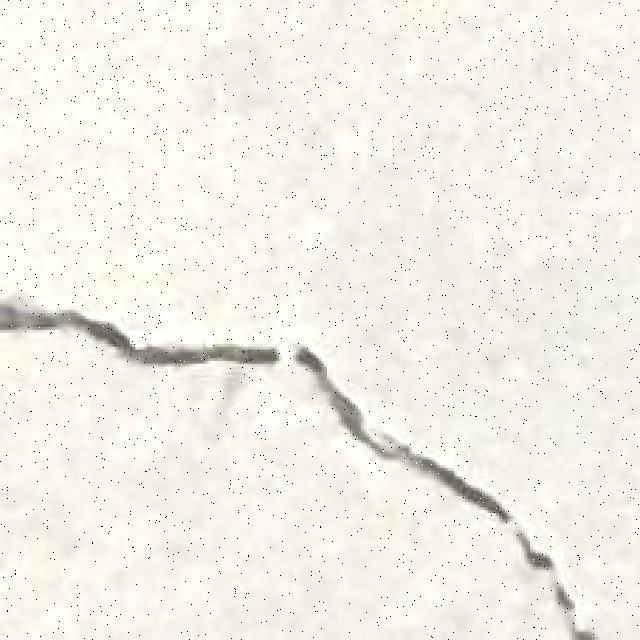Crack: (1, 300, 592, 637)
